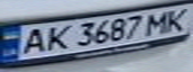3: (72, 19, 96, 47)
6: (93, 17, 112, 45)
7: (124, 12, 148, 39)
8: (109, 16, 130, 43)
A: (15, 25, 51, 56)
K: (39, 22, 72, 52), (160, 4, 193, 33)
M: (142, 9, 175, 36)
